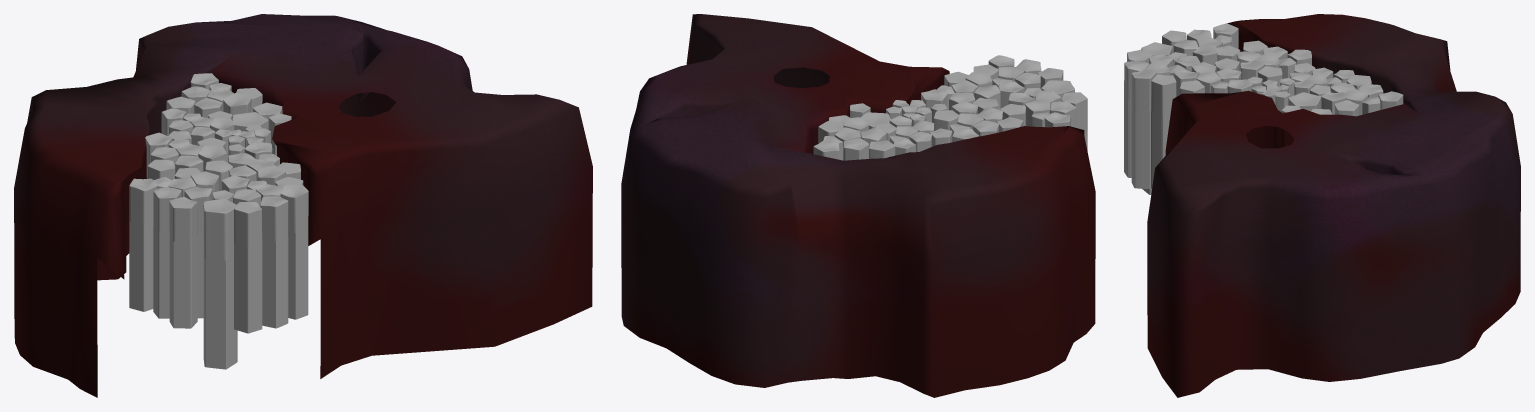
Rendered from Plat3.fbx.
The picture shows the model from 3 angles, left to right: view 1: azimuth 30°, elevation 25°; view 2: azimuth 150°, elevation 25°; view 3: azimuth 270°, elevation 25°; orthographic projection. The views are drawn at different scales.
Visible parts, largest first — view 1: PlayablePlatform1, pasted__pasted__HexClump3; view 2: PlayablePlatform1, pasted__pasted__HexClump3; view 3: PlayablePlatform1, pasted__pasted__HexClump3.
Part boxes in pixels (x1,y1,x2,y2): PlayablePlatform1: (14,14,592,397); pasted__pasted__HexClump3: (129,73,308,369); PlayablePlatform1: (621,14,1095,397); pasted__pasted__HexClump3: (813,55,1087,160); PlayablePlatform1: (1147,14,1520,397); pasted__pasted__HexClump3: (1124,23,1403,194).
Size of the model in its own units: 2143 by 913 by 1709.
